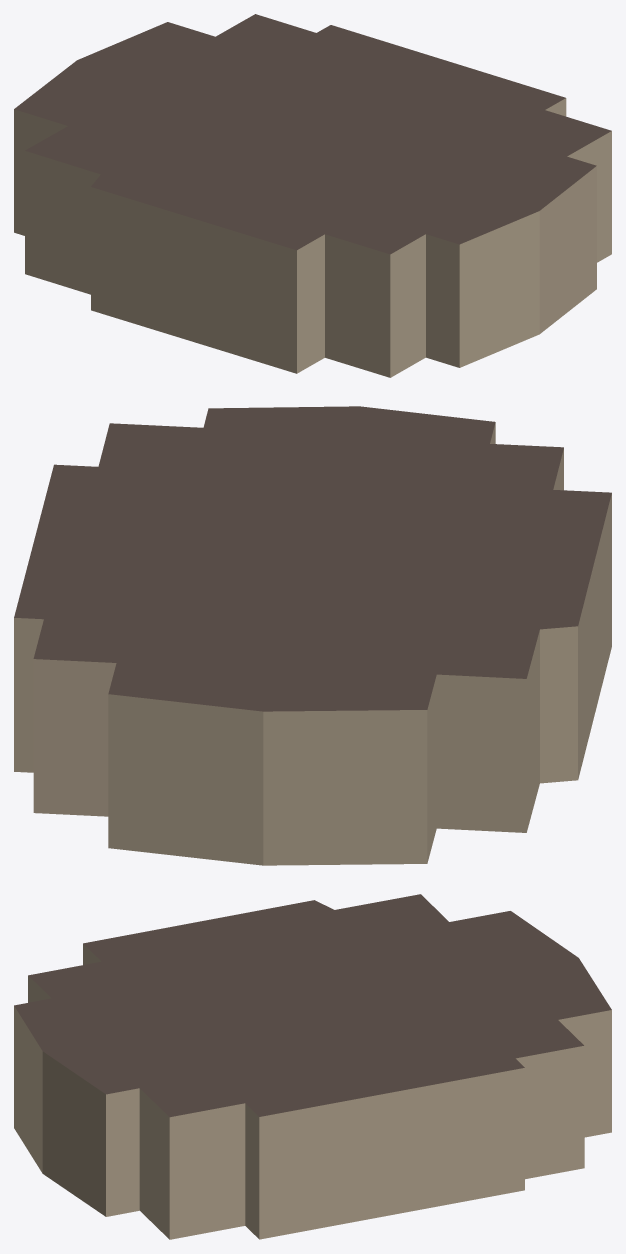
3 views of the same model, one above another, from view 1: azimuth 30°, elevation 25°; view 2: azimuth 150°, elevation 25°; view 3: azimuth 270°, elevation 25° (orthographic). The views are drawn at different scales.
Visible parts, largest first — view 1: HP-w757482012; view 2: HP-w757482012; view 3: HP-w757482012.
Boxes of the visible parts, <box> form: HP-w757482012: <box>14,14,611,377</box>; HP-w757482012: <box>14,406,611,865</box>; HP-w757482012: <box>14,894,611,1239</box>.
Size of the model in its own units: 35.14 by 9 by 39.79.
